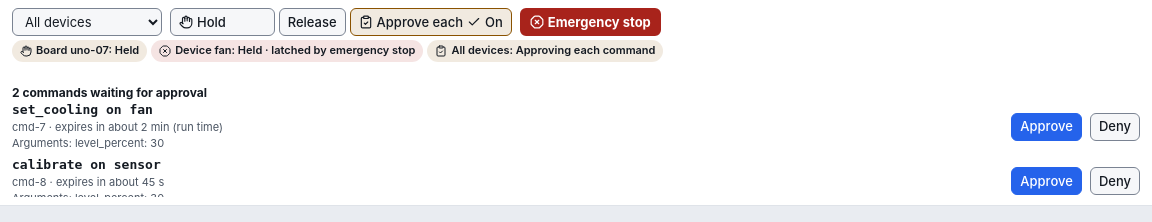
Test: the interrupt controls on the live screen › offers all devices, each board and each device, and acts on the chosen scope only
Select "Board mega-01" in the dropdown named "Scope" at [87, 22], box [12,8,162,36]
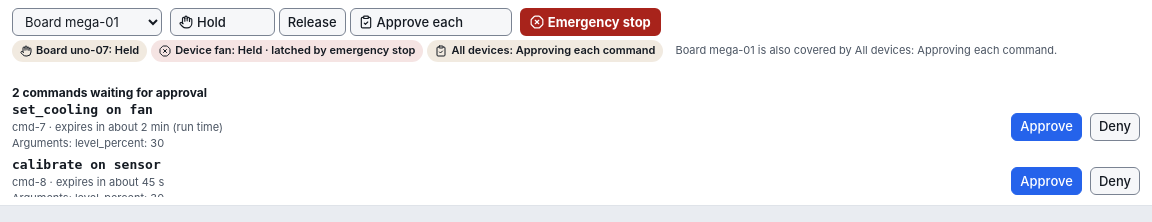
Click the button "Hold" at [222, 22], box [170,8,275,36]
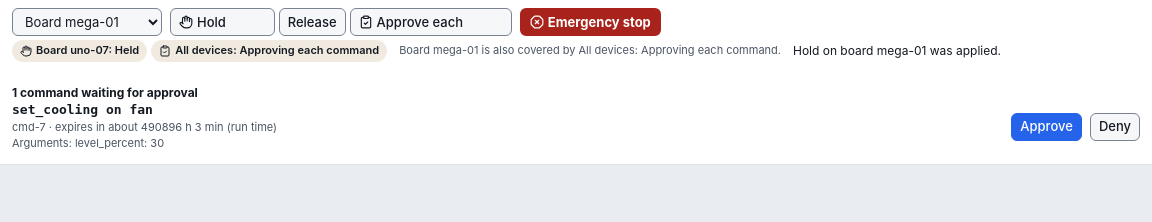
Expected: the text "Hold on board mega-01 was applied." is shown, [793,42,1001,60]
